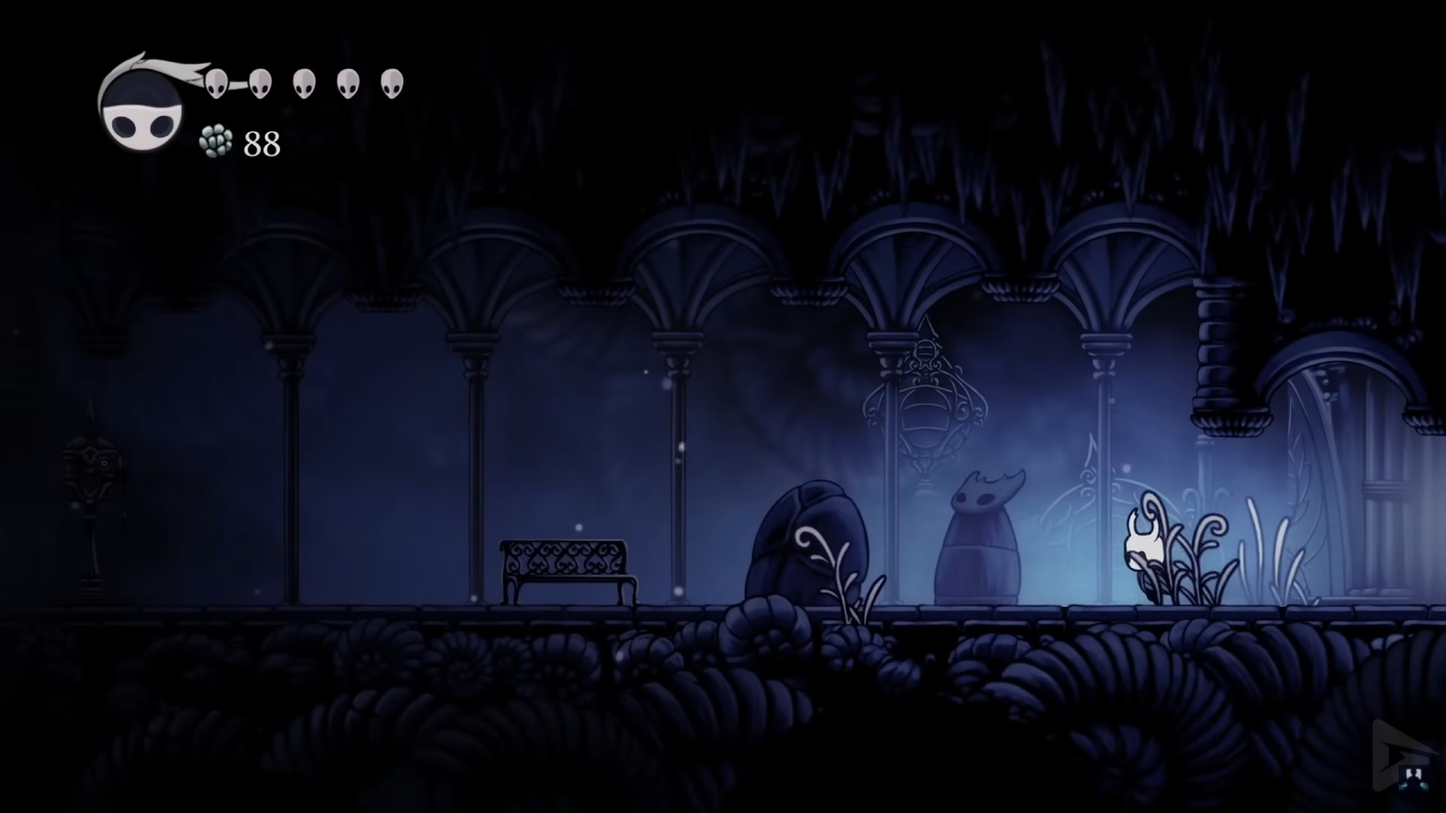HK: (1113, 501, 1174, 608)
